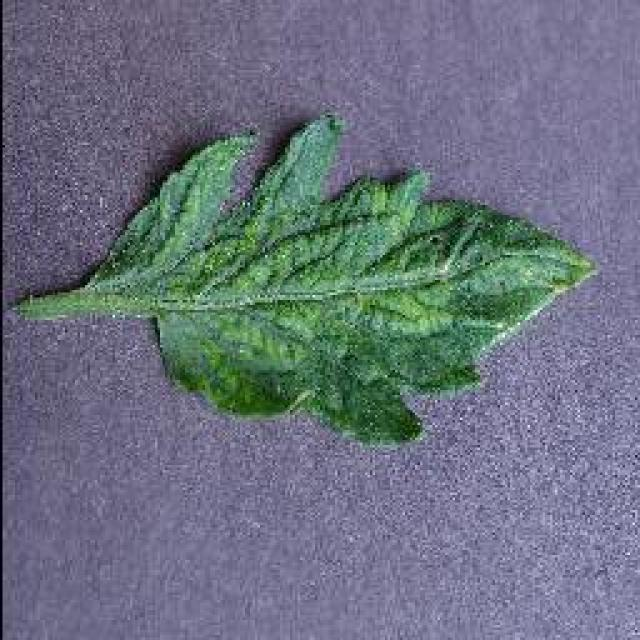Tomato___Tomato_mosaic_virus: (20, 115, 592, 440)
